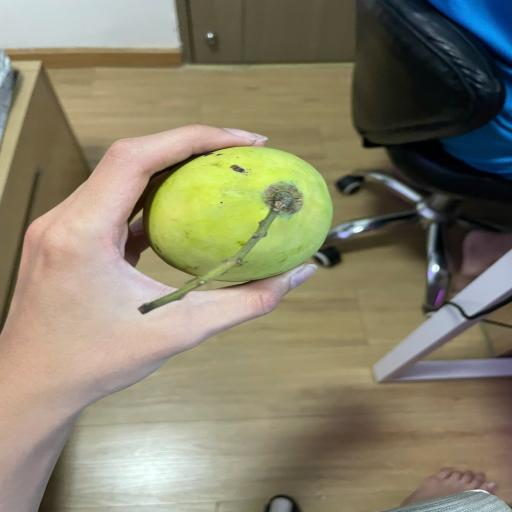xoai: (136, 147, 333, 314)
